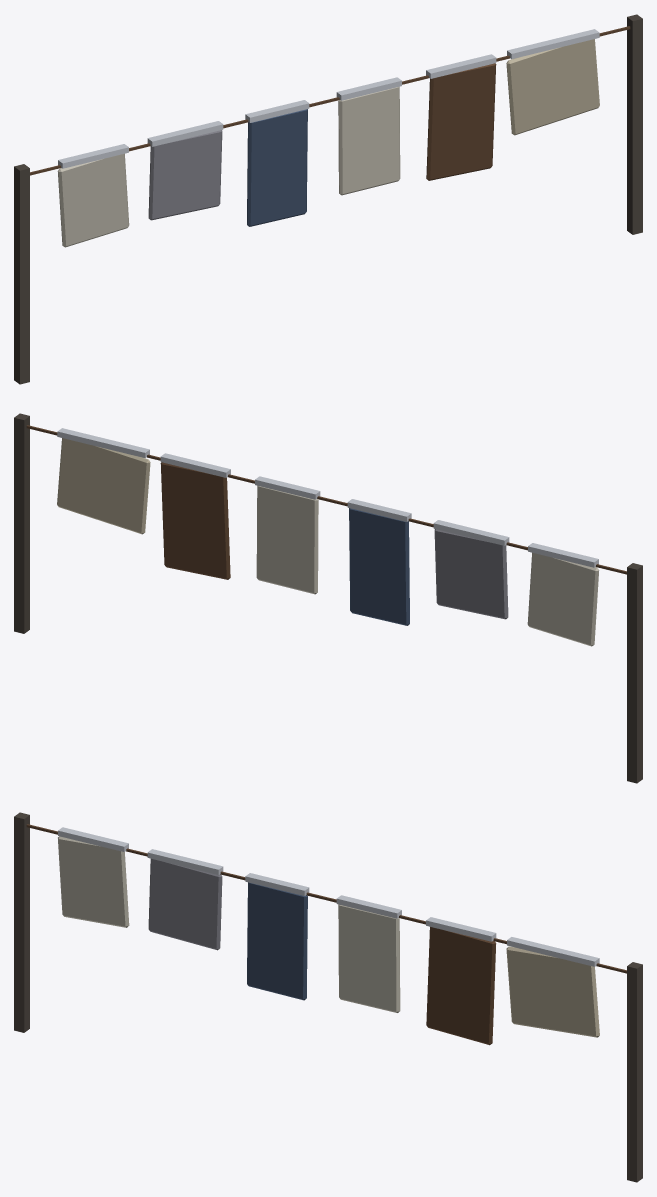
The model's file is village_washing_line.glb.
3 renders of one model, top to bottom at view 1: azimuth 30°, elevation 25°; view 2: azimuth 150°, elevation 25°; view 3: azimuth 330°, elevation 25°, orthographic.
Visible parts, largest first — view 1: village_washing_line; view 2: village_washing_line; view 3: village_washing_line.
Part boxes in pixels (x1=…): village_washing_line: x1=14, y1=14, x2=642, y2=384; village_washing_line: x1=14, y1=413, x2=642, y2=783; village_washing_line: x1=14, y1=812, x2=642, y2=1182.
Size of the model in its own units: 6.1 by 2 by 0.1.
